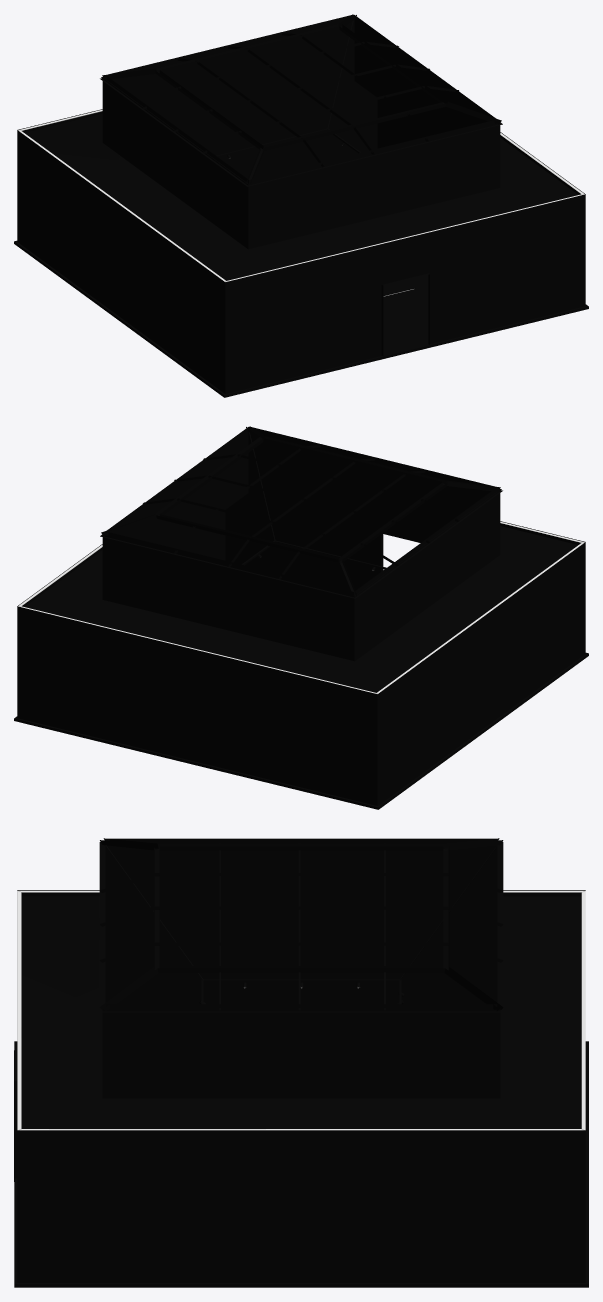
Rendered from VR_Gallery.fbx.
The picture shows the model from 3 angles, top to bottom: view 1: azimuth 30°, elevation 25°; view 2: azimuth 150°, elevation 25°; view 3: azimuth 270°, elevation 25°; orthographic projection. The views are drawn at different scales.
Visible parts, largest first — view 1: VR_Gallery; view 2: VR_Gallery; view 3: VR_Gallery.
Boxes of the visible parts, bbox=[...] form: VR_Gallery: bbox=[14, 14, 588, 397]; VR_Gallery: bbox=[14, 426, 588, 809]; VR_Gallery: bbox=[14, 838, 588, 1287].
Bounding box in the file's own units: 1012 × 505 × 1012.
1 material, 1 textured.
